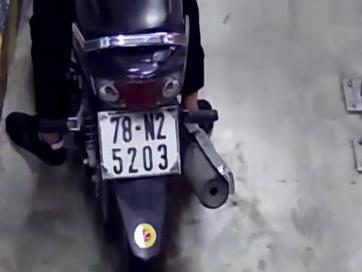num_plate: (94, 107, 182, 182)
